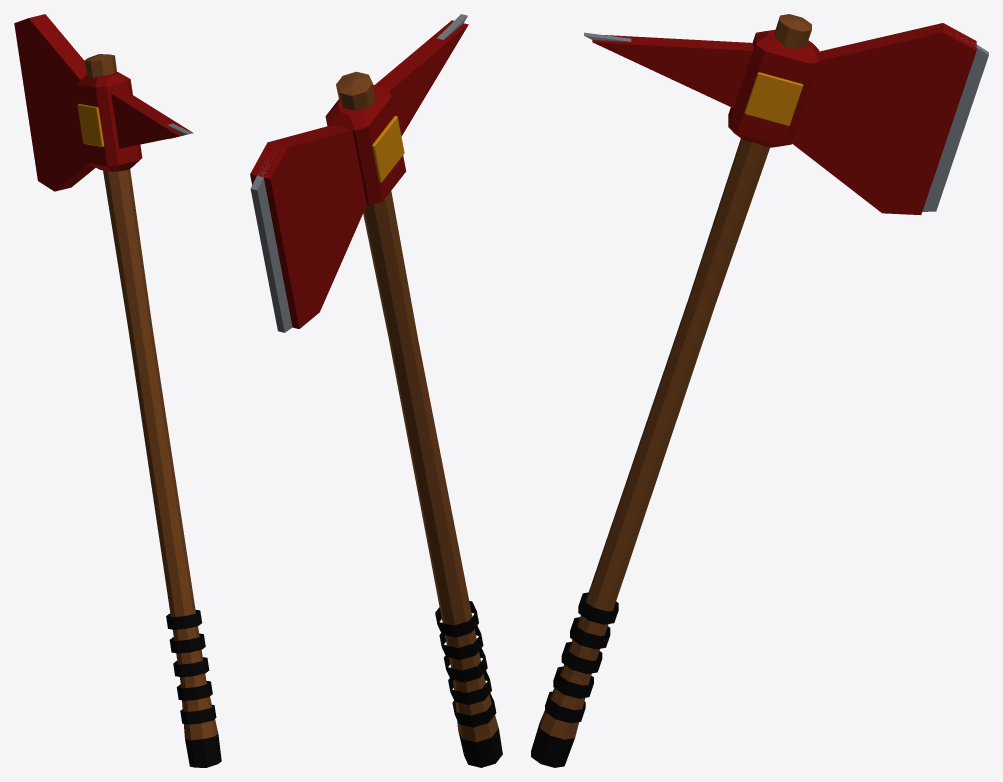
The model's file is SM_Wep_FireAxe.glb.
3 views of the same model, side by side, from view 1: azimuth 30°, elevation 25°; view 2: azimuth 150°, elevation 25°; view 3: azimuth 270°, elevation 25° (orthographic). The views are drawn at different scales.
Visible parts, largest first — view 1: SM_Wep_FireAxe; view 2: SM_Wep_FireAxe; view 3: SM_Wep_FireAxe.
Part boxes in pixels (x1,y1,x2,y2): SM_Wep_FireAxe: (14,14,221,767); SM_Wep_FireAxe: (250,14,502,767); SM_Wep_FireAxe: (531,14,988,767).
Bounding box in the file's own units: 0.056 × 0.8664 × 0.4827.
1 material, 1 textured.
